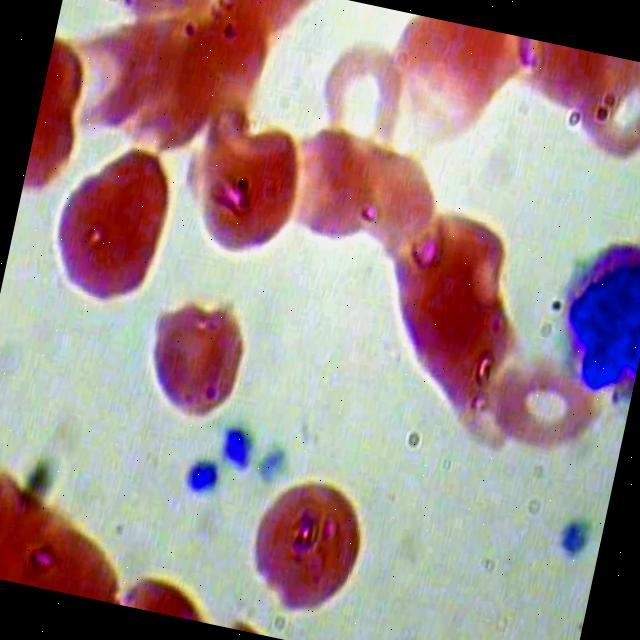Platelets: (178, 448, 228, 508), (547, 503, 597, 562), (216, 416, 260, 472), (250, 437, 294, 493)
RBC: (174, 105, 322, 288), (40, 134, 188, 316), (232, 465, 375, 626), (128, 282, 255, 430), (473, 354, 606, 472), (304, 32, 418, 164), (277, 118, 391, 250), (50, 15, 164, 147), (563, 49, 640, 180)
WBC: (541, 222, 640, 409)
